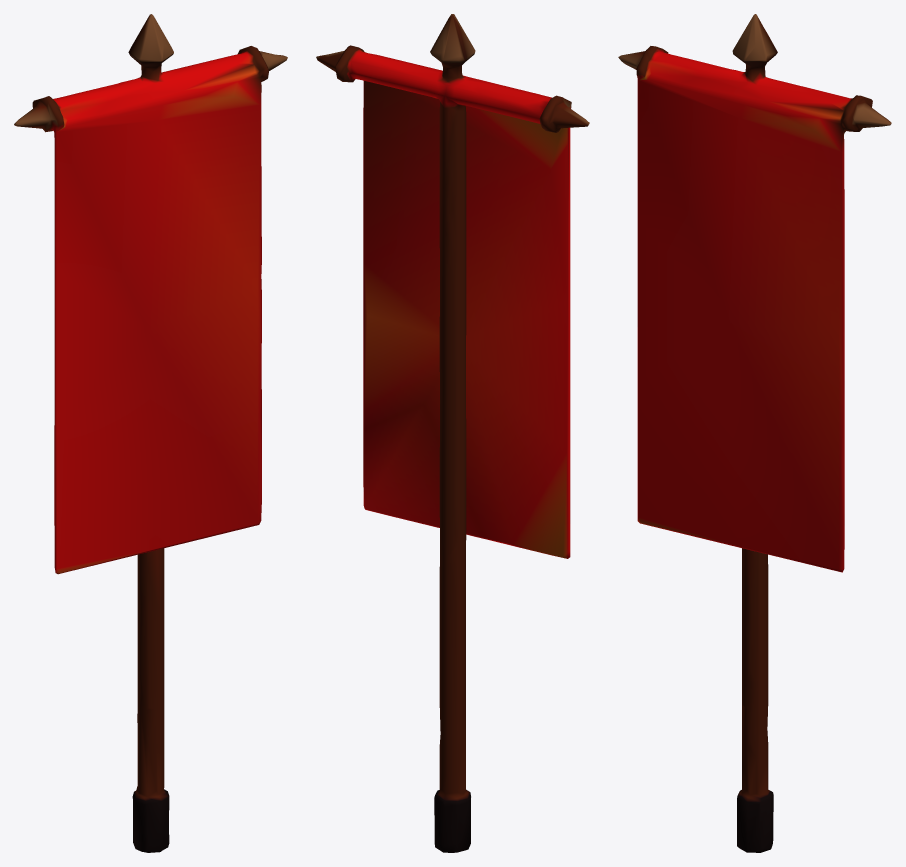
File: gen3d-tournament-banner-lod1.glb
The picture shows the model from 3 angles, left to right: view 1: azimuth 30°, elevation 25°; view 2: azimuth 150°, elevation 25°; view 3: azimuth 330°, elevation 25°; orthographic projection.
Parts seen in each view (by area): view 1: part_0; view 2: part_0; view 3: part_0.
Boxes of the visible parts, box(x1,y1,x2,y2) form: part_0: box(14, 14, 287, 852); part_0: box(316, 14, 589, 852); part_0: box(618, 14, 891, 852).
Size of the model in its own units: 0.3424 by 0.9985 by 0.0565.
